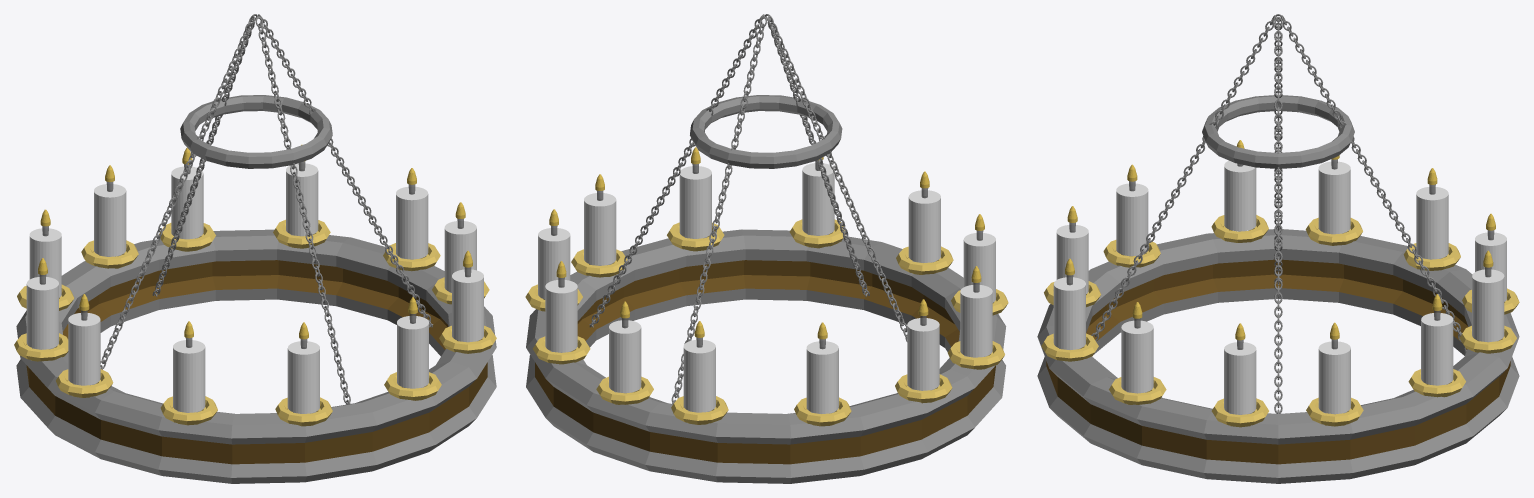
File: Lamp.fbx
3 views of the same model, side by side, from view 1: azimuth 30°, elevation 25°; view 2: azimuth 150°, elevation 25°; view 3: azimuth 270°, elevation 25° (orthographic).
Visible parts, largest first — view 1: Torus.005; view 2: Torus.005; view 3: Torus.005.
Boxes of the visible parts, x1,y1,x2,y2 form: Torus.005: [14, 14, 496, 483]; Torus.005: [525, 14, 1008, 483]; Torus.005: [1037, 14, 1519, 483].
Bounding box in the file's own units: 226 × 189 × 222.
